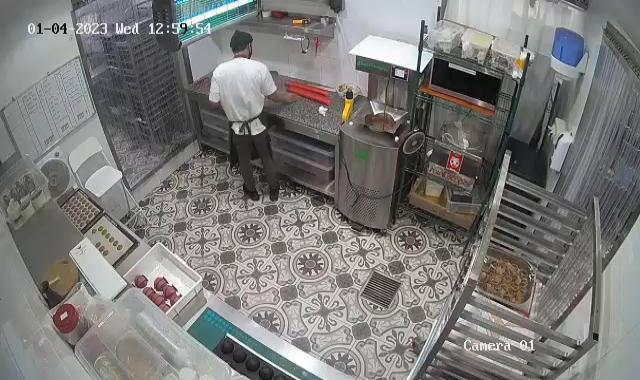no_hairnet: (229, 25, 257, 54)
